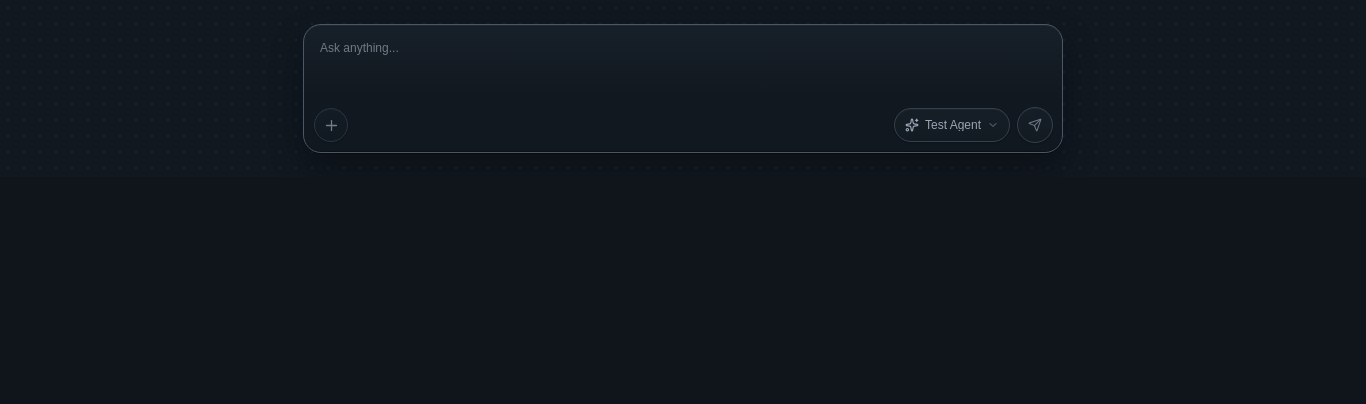
AiChatPanel response retry › retries the failed assistant turn in place and replaces the error with the recovered response
Type "Create something" into the text box named "Start a conversation" at coordinates (683, 64), box [304,25,1062,103]
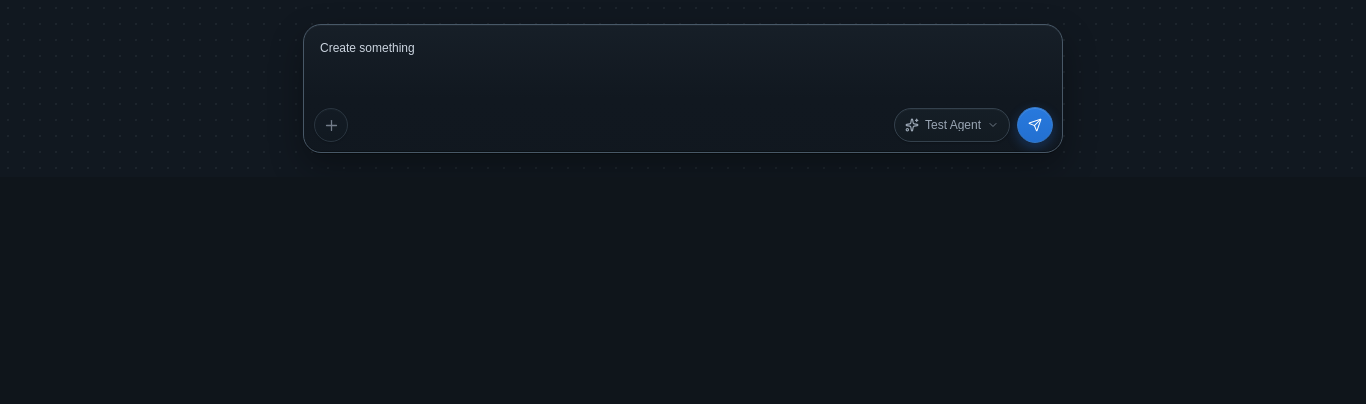
Click the button named "Start conversation" at coordinates (1035, 125), box [1017,107,1053,143]
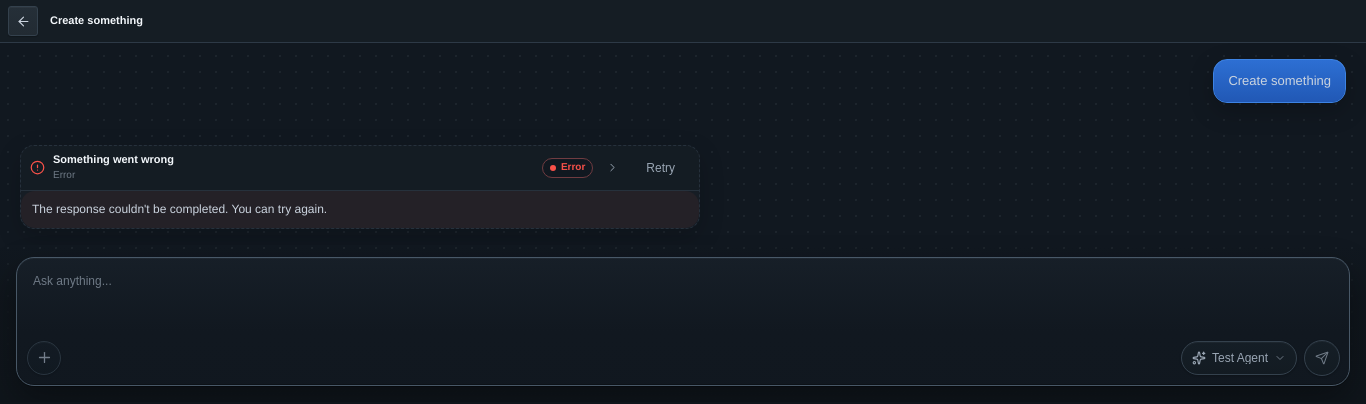
Check: the text "Something went wrong" is shown, box [53,154,174,166]
Check: the text "The response couldn't be completed. You can try again." is shown, box [32,202,327,216]
Check: the button "Retry" is shown
Click the button "Retry" at coordinates (661, 168), box [631,152,690,182]
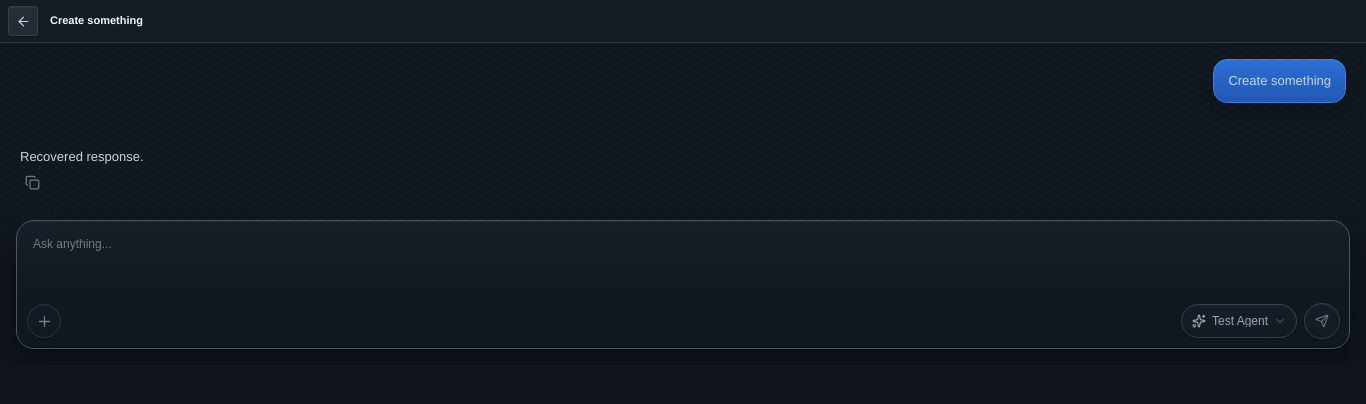
Check: the number of elements with class "ai-chat-user-card" is 1, box [1213,59,1346,102]
Check: the text "Recovered response." is shown, box [20,146,144,166]
Check: the text "Something went wrong" is gone
